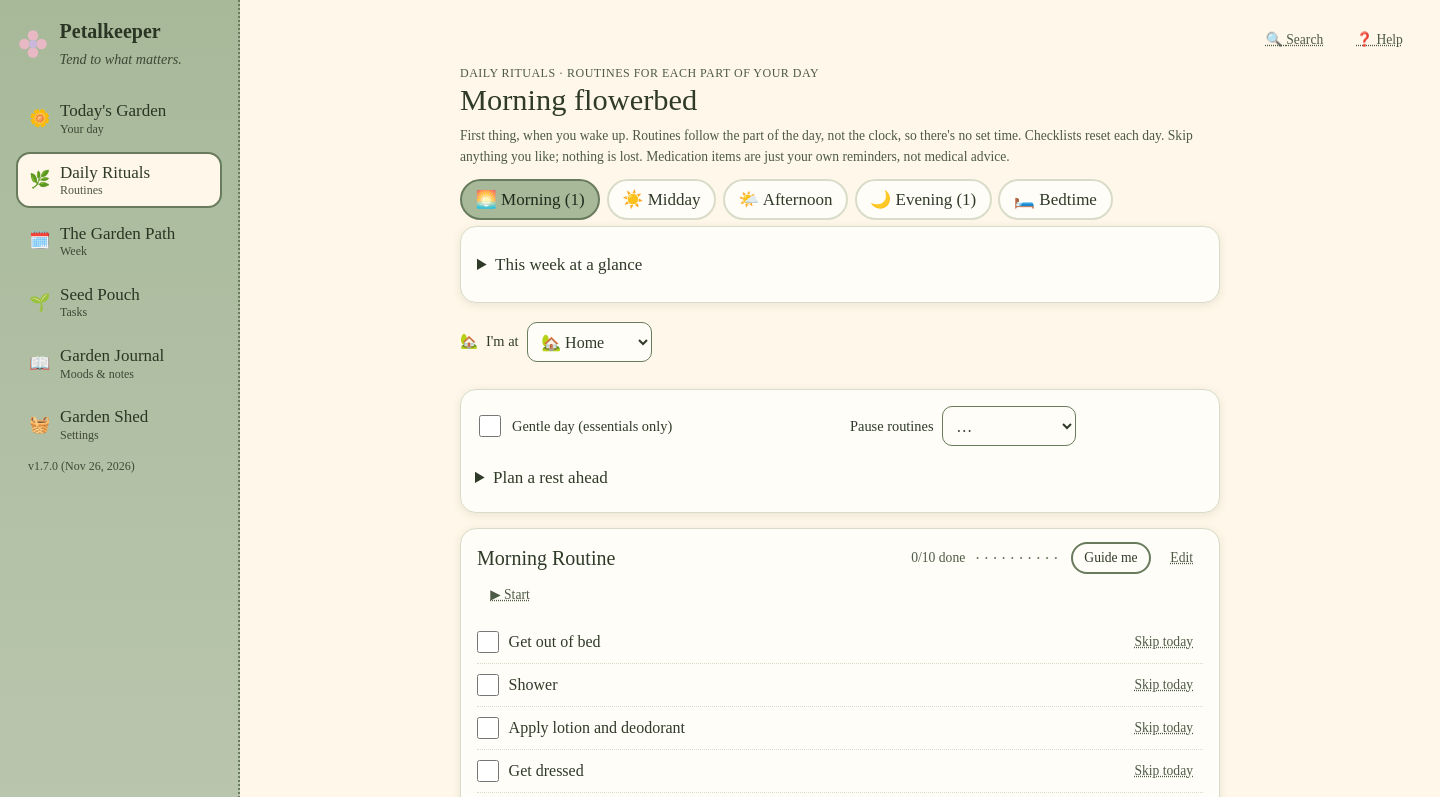
Test case: the new screens › shows the settings check
The width and height of the screenshot is (1440, 797).
Click the button "🧺 Garden Shed Settings" at (119, 425), box [16, 396, 222, 453]
(page scrolled)
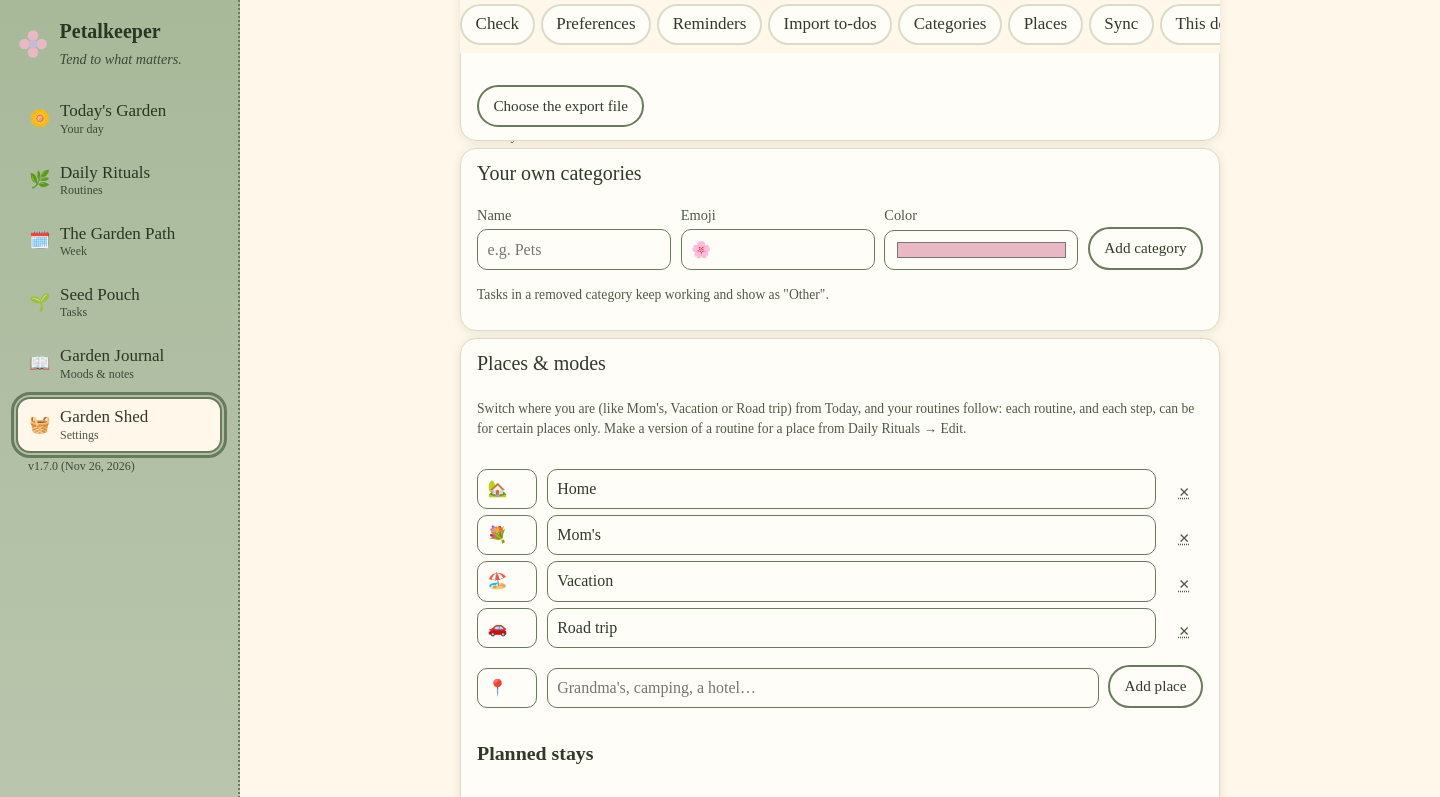
expect the text "Reminders" is shown: met, box [511, 337, 590, 356]
expect the text "Storage" is shown: met, box [511, 396, 566, 415]
